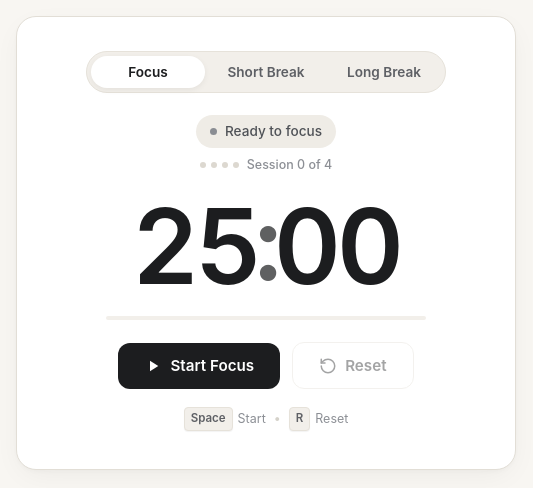
FEATURE 2: Work and Break Sessions › loads default Pomodoro durations when rendered without custom test durations
Expected: the element with test id "countdown-display" reads "25 : 00", [132,194,400,298]
Note: Switch to Short Break while idle
Click the tab with test id "mode-tab-shortBreak". click: (266, 72)
box: [209,56,323,88]
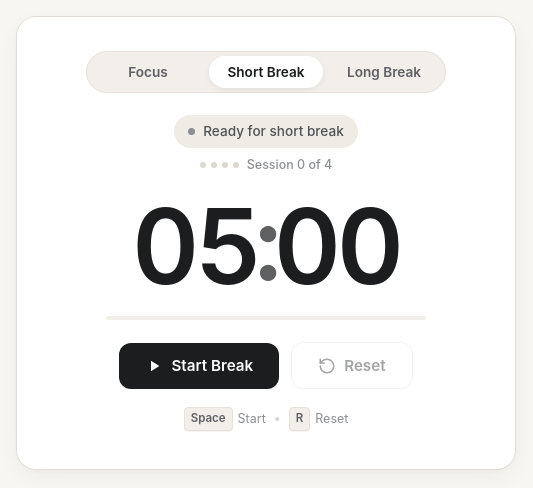
Result: the element with test id "countdown-display" reads "05 : 00" at [132,194,400,298]
Note: Switch to Long Break while idle
Click the tab with test id "mode-tab-longBreak". click: (384, 72)
box: [327,56,441,88]
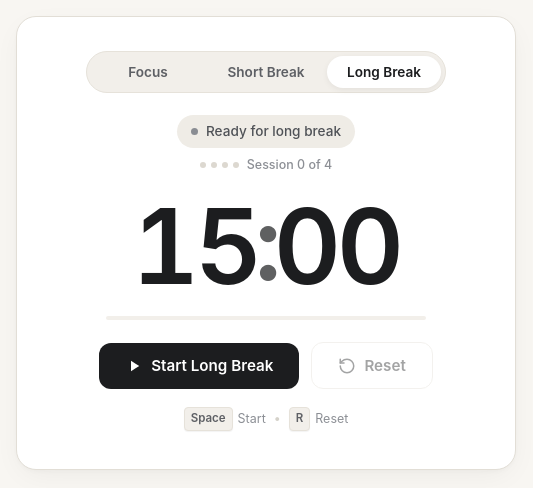
Result: the element with test id "countdown-display" reads "15 : 00" at [132,194,400,298]
